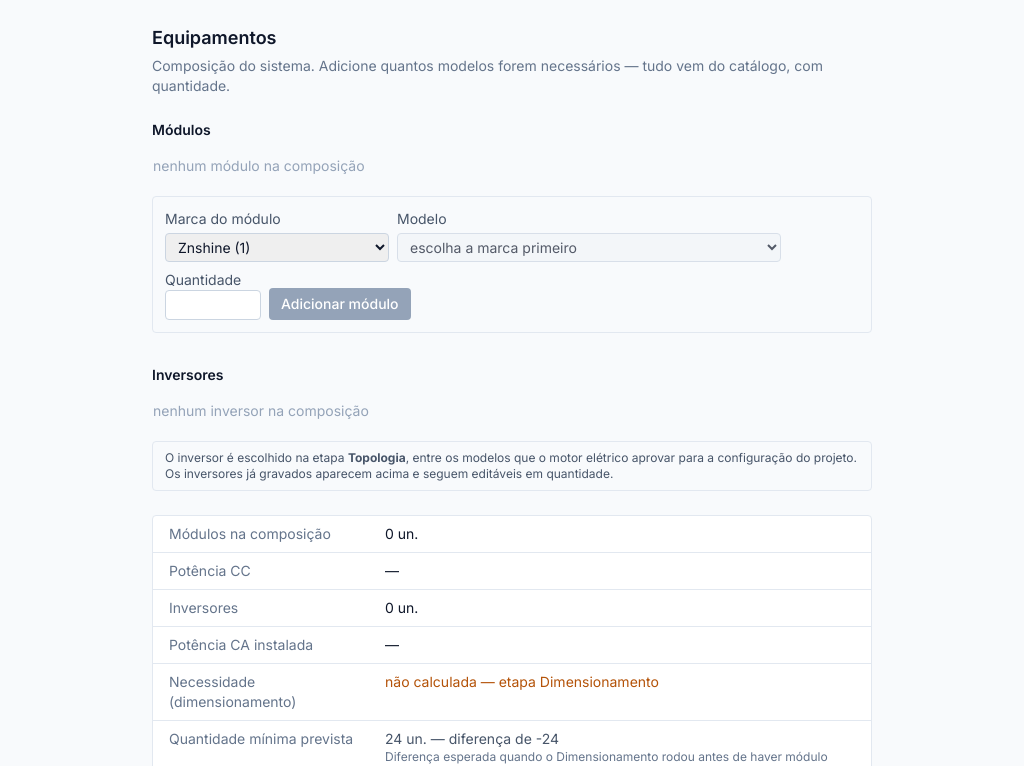
Test: FV-UX-029 · a tela compõe › 10 · adiciona módulo com quantidade
This screenshot has width=1024, height=766.
Select "Znshine (1)" in the dropdown labelled "Marca do módulo" at (277, 248), box [165, 233, 389, 262]
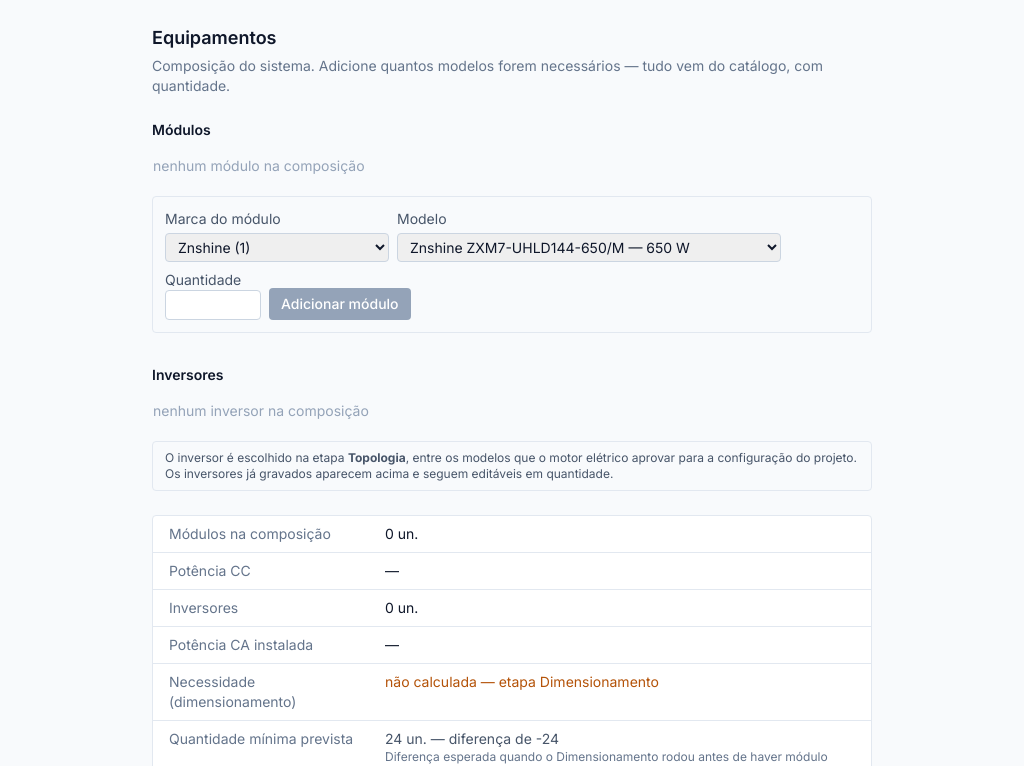
Select "Znshine ZXM7-UHLD144-650/M — 650 W" in the dropdown named "Módulo" at (589, 248), box [397, 233, 781, 262]
Type "24" into the number field named "Quantidade do novo módulo".
click(213, 305); type("24")  # box [165, 290, 261, 320]
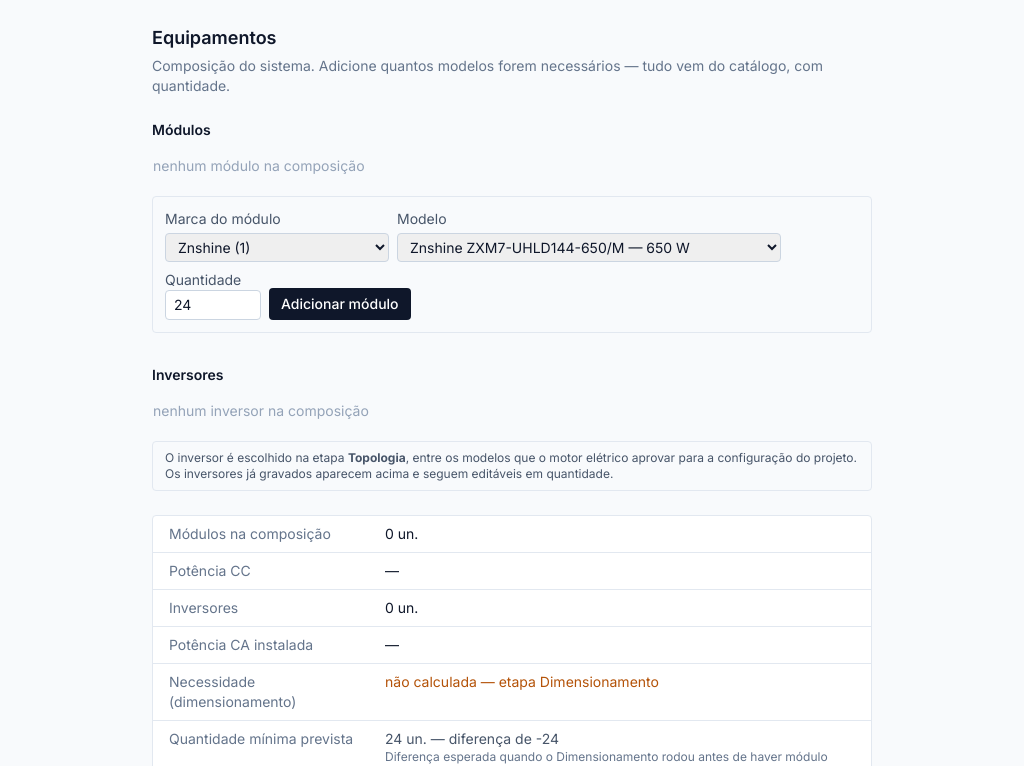
Click the button "Adicionar módulo".
click(340, 304)  # box [269, 288, 410, 320]
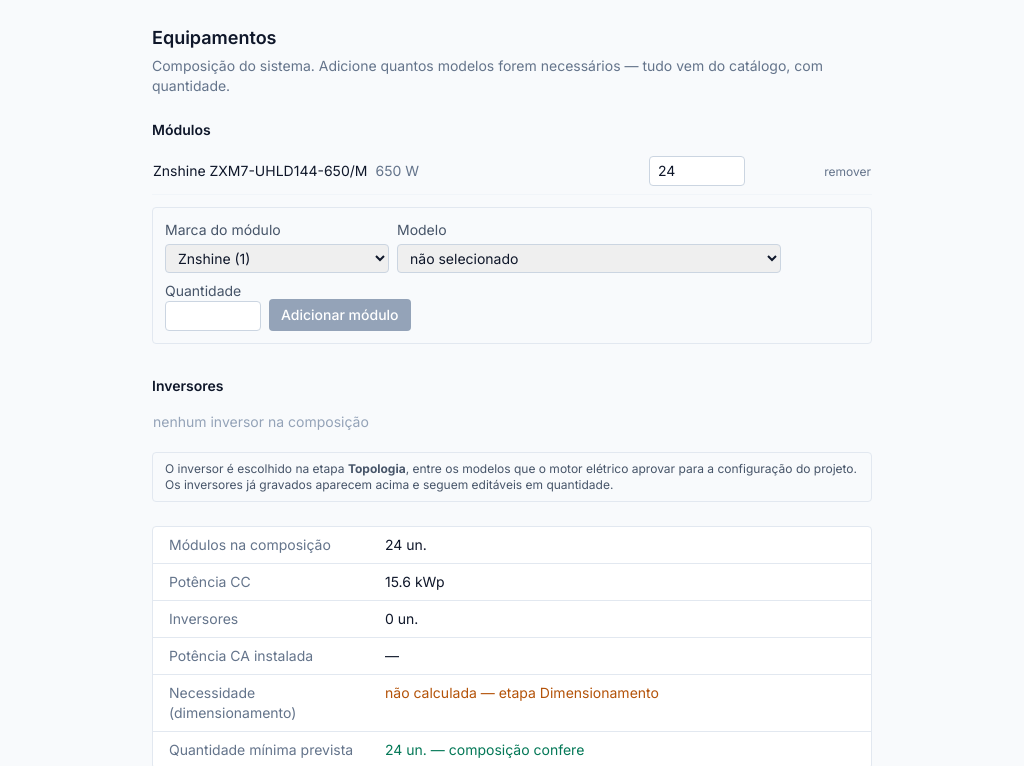
Check: the text "24 un." is shown, box [385, 535, 427, 555]
Check: the text "Znshine ZXM7-UHLD144-650/M" is shown, box [153, 162, 368, 179]
Check: the text "15.6 kWp" is shown, box [385, 572, 444, 592]
